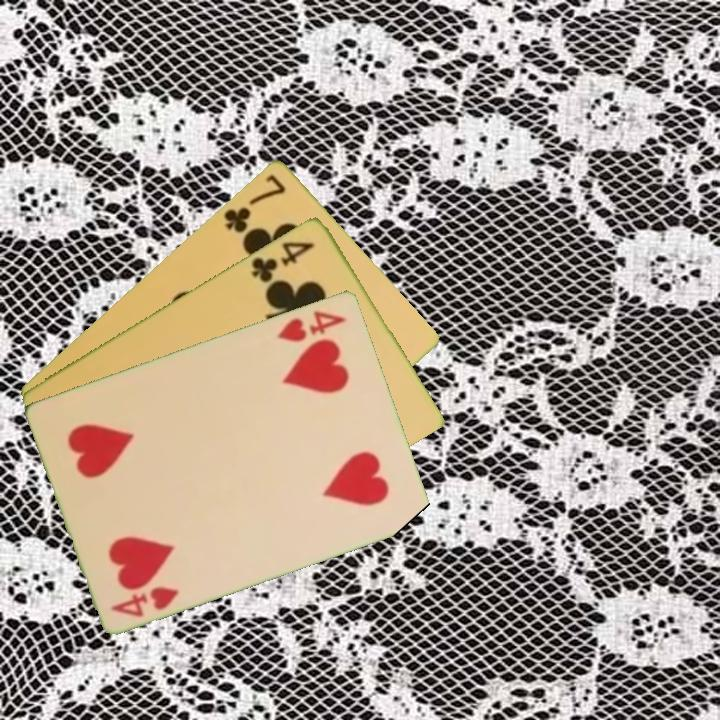4c: (248, 237, 317, 286)
4h: (274, 306, 349, 345), (107, 582, 183, 620)
7c: (219, 170, 289, 236)
